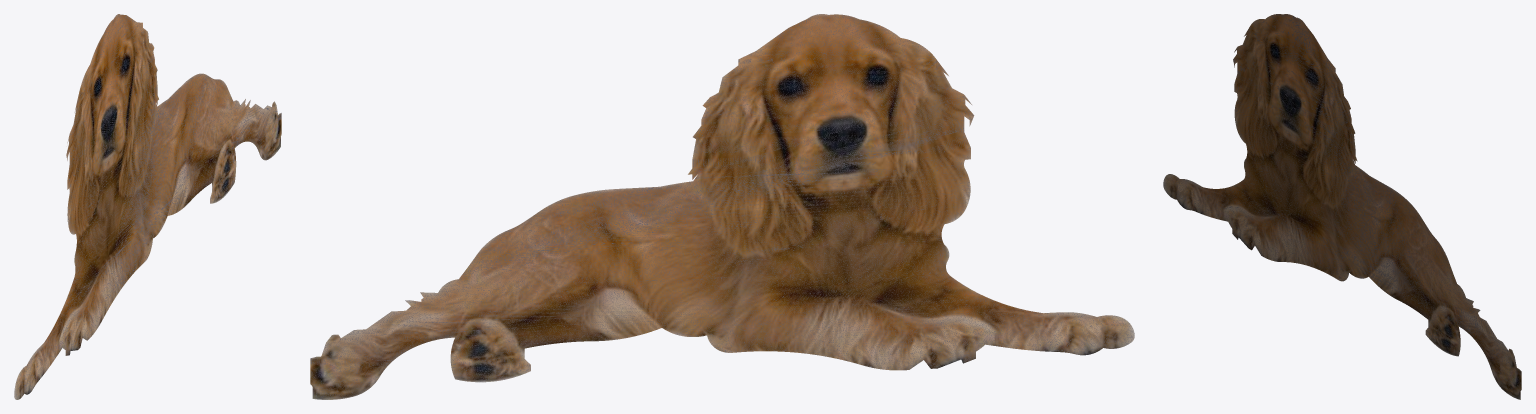
3 renders of one model, left to right at view 1: azimuth 30°, elevation 25°; view 2: azimuth 150°, elevation 25°; view 3: azimuth 270°, elevation 25°, orthographic. The views are drawn at different scales.
Parts seen in each view (by area): view 1: Honey; view 2: Honey; view 3: Honey.
Part boxes in pixels (x1=…): Honey: x1=14, y1=14, x2=281, y2=399; Honey: x1=310, y1=14, x2=1134, y2=399; Honey: x1=1163, y1=14, x2=1521, y2=399.
Bounding box in the file's own units: 27.1 × 20.4 × 16.24.
